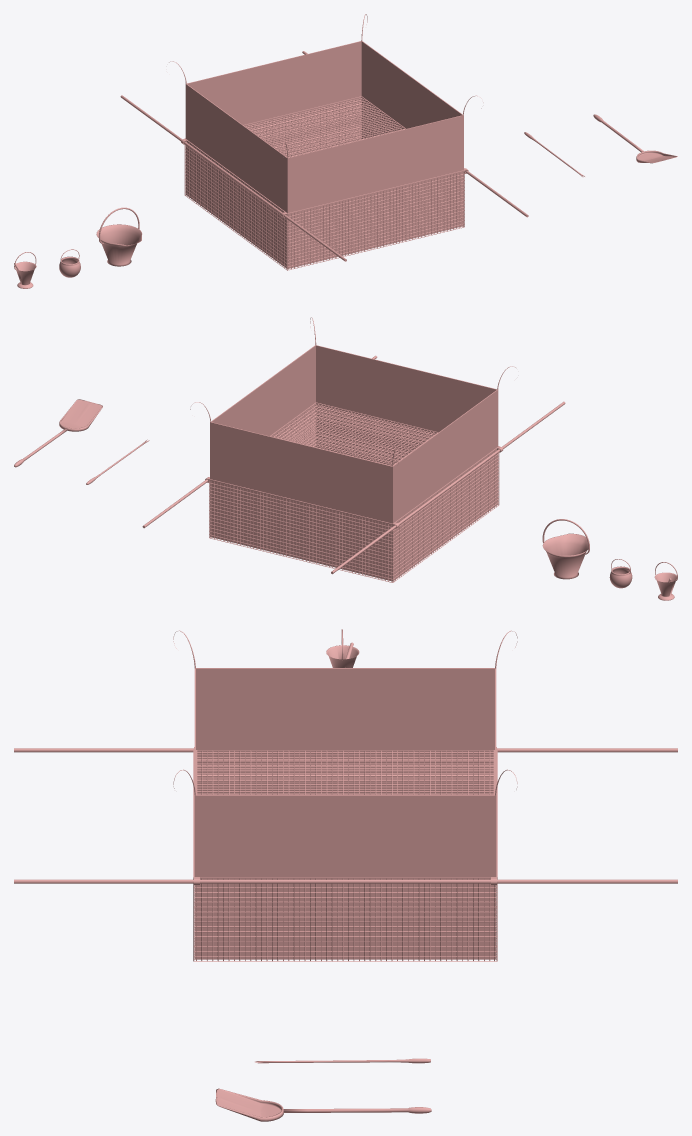
Rendered from altar_of_burnt_offering_of_the_tabernacle.glb.
3 renders of one model, top to bottom at view 1: azimuth 30°, elevation 25°; view 2: azimuth 150°, elevation 25°; view 3: azimuth 270°, elevation 25°, orthographic. The views are drawn at different scales.
Visible parts, largest first — view 1: Grate2.002, FirePan.001, CoalShovel.002, SprinklingBowl.001, AshPot2.001; view 2: Grate2.002, FirePan.001, CoalShovel.002, SprinklingBowl.001, AshPot2.001; view 3: Grate2.002, CoalShovel.002.
Boxes of the visible parts, bbox=[...] form: Grate2.002: bbox=[120, 14, 528, 270]; FirePan.001: bbox=[96, 207, 142, 266]; CoalShovel.002: bbox=[593, 114, 677, 163]; SprinklingBowl.001: bbox=[14, 252, 36, 288]; AshPot2.001: bbox=[59, 249, 80, 277]; Grate2.002: bbox=[142, 317, 565, 582]; FirePan.001: bbox=[542, 519, 589, 579]; CoalShovel.002: bbox=[14, 399, 102, 467]; SprinklingBowl.001: bbox=[654, 562, 677, 600]; AshPot2.001: bbox=[609, 559, 632, 588]; Grate2.002: bbox=[14, 630, 677, 961]; CoalShovel.002: bbox=[215, 1088, 431, 1121].
Bounding box in the file's own units: 17.64 × 3.61 × 11.
